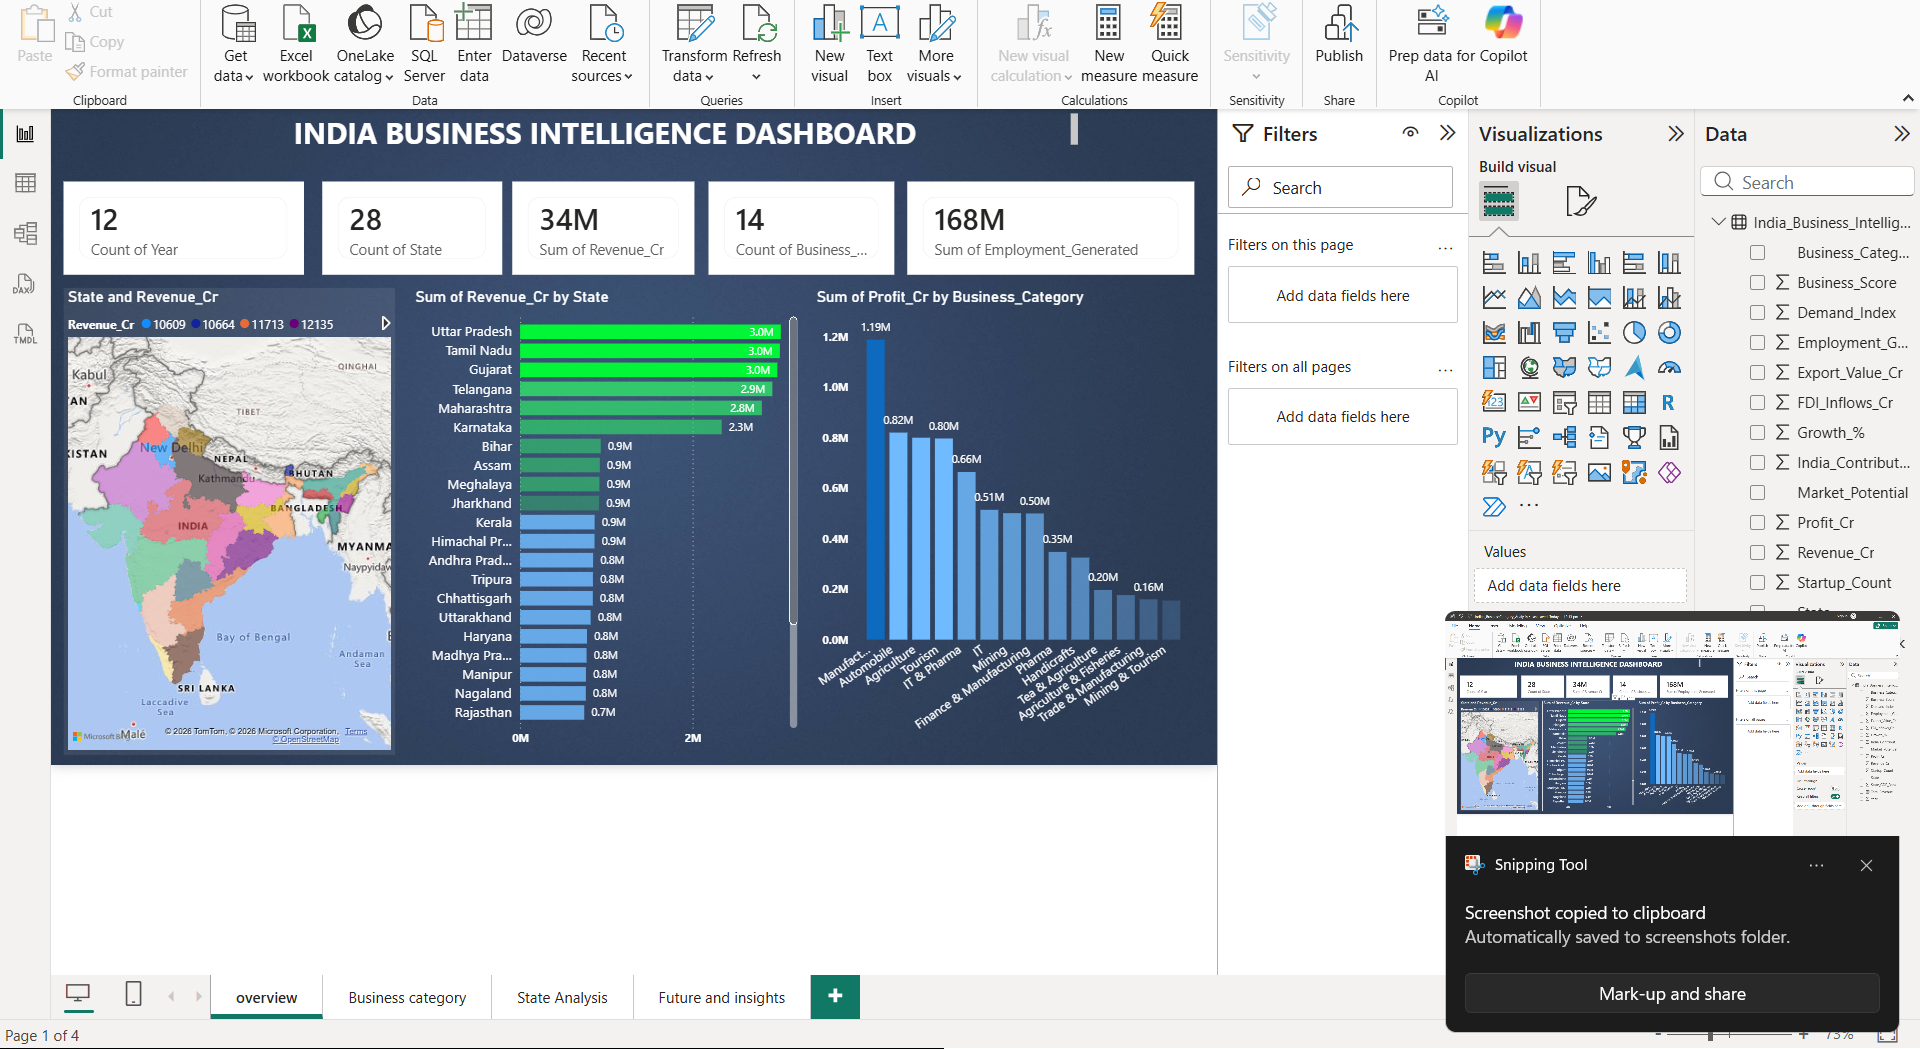

What the dashboard file says about the page in this screenshot:
{"tool":"powerbi","page":{"name":"overview","canvas":[1280,720],"ordinal":0},"visuals":[{"type":"textbox","box":[100.2,0,1031.9,48],"z":0},{"type":"cardVisual","fields":{"Data":["Count(India_Business_Intelligence.Business_Category)"]},"box":[722.2,79.2,204.2,102.8],"z":1000},{"type":"cardVisual","fields":{"Data":["Count(India_Business_Intelligence.State)"]},"box":[297.2,79.2,197.2,102.8],"z":2000},{"type":"cardVisual","fields":{"Data":["Sum(India_Business_Intelligence.Employment_Generated)"]},"box":[940.3,79.2,315.3,102.8],"z":3000},{"type":"cardVisual","fields":{"Data":["Count(India_Business_Intelligence.Year)"]},"box":[13.9,79.2,263.9,102.8],"z":4000},{"type":"cardVisual","fields":{"Data":["Sum(India_Business_Intelligence.Revenue_Cr)"]},"box":[506.9,79.2,200,102.8],"z":5000},{"type":"filledMap","fields":{"Category":["India_Business_Intelligence.State"],"Series":["India_Business_Intelligence.Revenue_Cr"]},"box":[13.9,195.8,363.9,512.5],"z":6000},{"type":"clusteredBarChart","fields":{"Category":["India_Business_Intelligence.State"],"Y":["Sum(India_Business_Intelligence.Revenue_Cr)"]},"box":[395.8,195.8,429.2,512.5],"z":7000},{"type":"clusteredColumnChart","fields":{"Category":["India_Business_Intelligence.Business_Category"],"Y":["Sum(India_Business_Intelligence.Profit_Cr)"]},"box":[836.1,195.8,419.4,512.5],"z":8000}]}

Visuals, with their boxes on the page's 1280x720 design canvas (x1, y1, x2, y2). These are canvas units, not pixel positions in the 1920x1049 screenshot, which may show the page scaled, cropped or inside an application window:
textbox: BBox(100, 0, 1132, 48)
cardVisual - Count(India_Business_Intelligence.Business_Category): BBox(722, 79, 926, 182)
cardVisual - Count(India_Business_Intelligence.State): BBox(297, 79, 494, 182)
cardVisual - Sum(India_Business_Intelligence.Employment_Generated): BBox(940, 79, 1256, 182)
cardVisual - Count(India_Business_Intelligence.Year): BBox(14, 79, 278, 182)
cardVisual - Sum(India_Business_Intelligence.Revenue_Cr): BBox(507, 79, 707, 182)
filledMap - India_Business_Intelligence.State x India_Business_Intelligence.Revenue_Cr: BBox(14, 196, 378, 708)
clusteredBarChart - India_Business_Intelligence.State x Sum(India_Business_Intelligence.Revenue_Cr): BBox(396, 196, 825, 708)
clusteredColumnChart - India_Business_Intelligence.Business_Category x Sum(India_Business_Intelligence.Profit_Cr): BBox(836, 196, 1256, 708)
